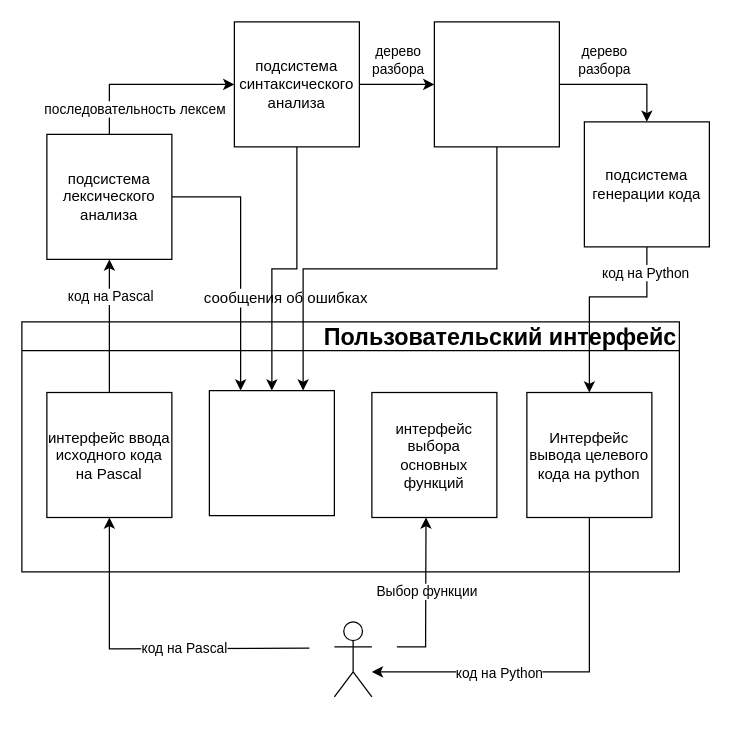
Image size: 731x745. Some labels were removed from this diagram. Each missing label, with the centre of its shape:
"Actor" goes at point 352,659.
"интерфейс вывода сообщений об ошибках" goes at point 271,452.
"подсистема семантического анализа" goes at point 496,84.
